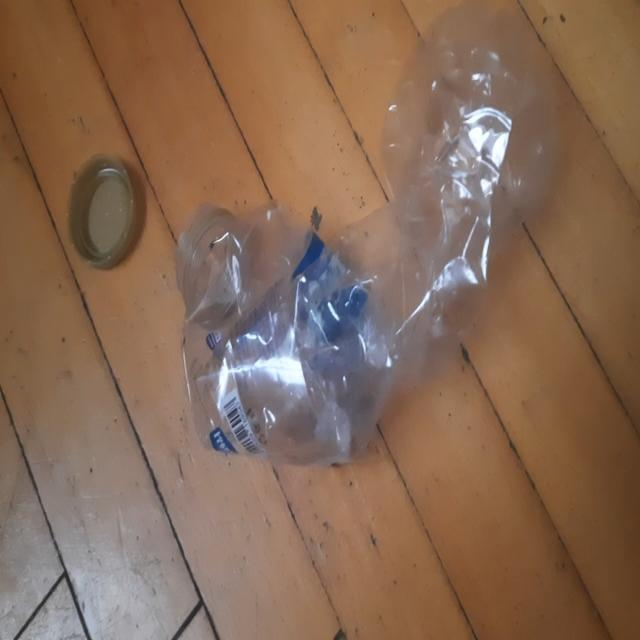Plastic: (178, 9, 558, 467)
